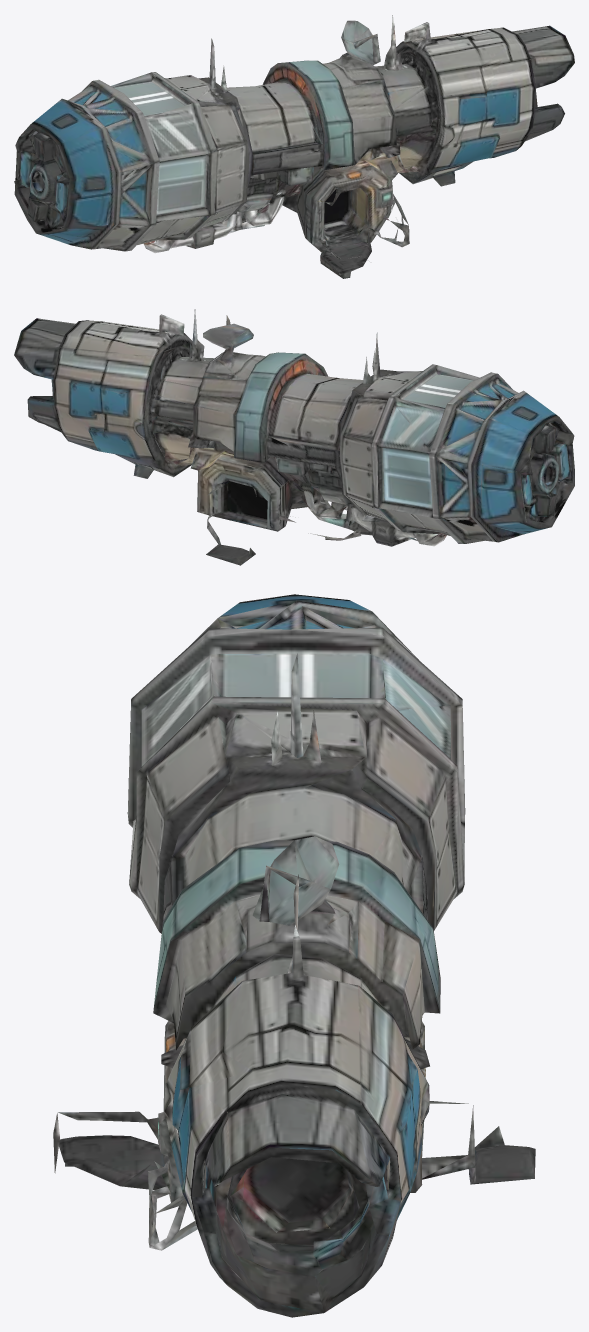
The model's file is wreckage-model-2.glb.
The picture shows the model from 3 angles, top to bottom: view 1: azimuth 30°, elevation 25°; view 2: azimuth 150°, elevation 25°; view 3: azimuth 270°, elevation 25°; orthographic projection. The views are drawn at different scales.
Parts seen in each view (by area): view 1: Mesh1.0; view 2: Mesh1.0; view 3: Mesh1.0.
Part boxes in pixels (x1,y1,x2,y2): Mesh1.0: (14, 15, 574, 278); Mesh1.0: (14, 309, 574, 565); Mesh1.0: (53, 594, 535, 1317).
Size of the model in its own units: 1.9 by 0.7627 by 0.7568.
1 material, 1 textured.
